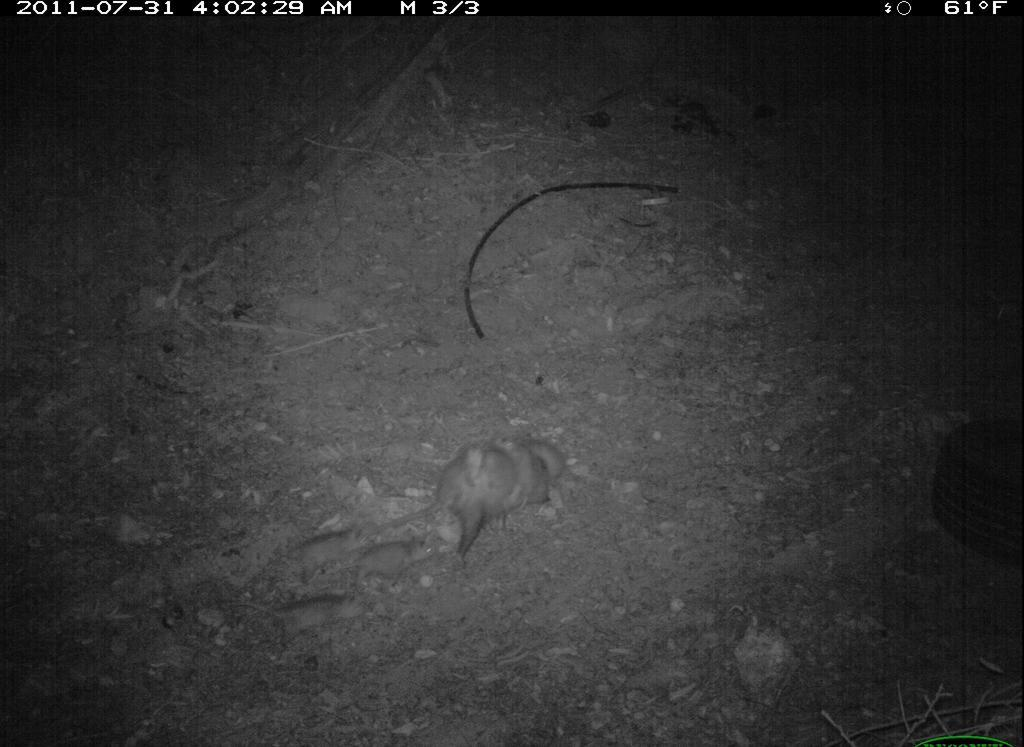opossum: (374, 432, 569, 565)
